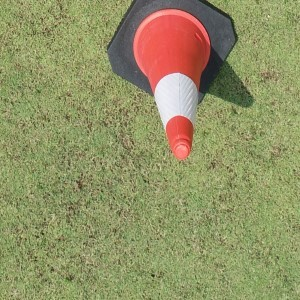traffic cone: (106, 1, 236, 159)
